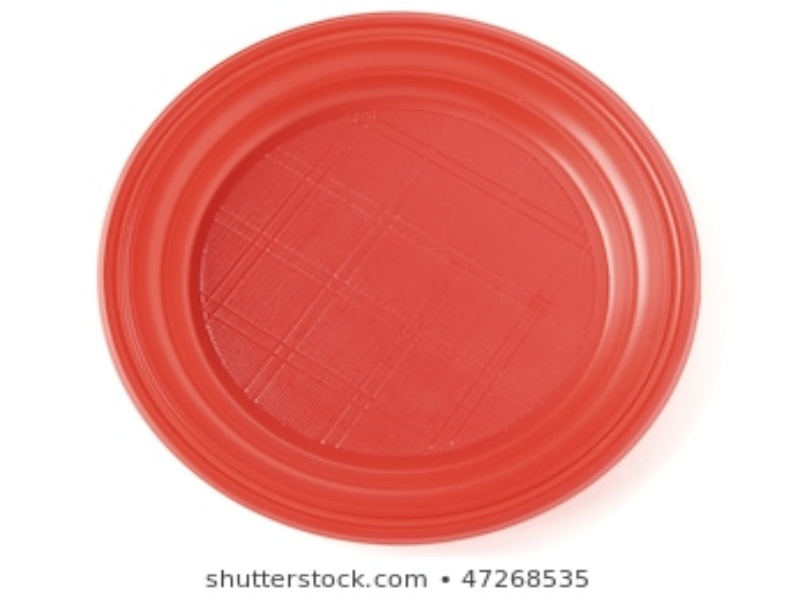plastic-plate: (93, 9, 705, 546)
